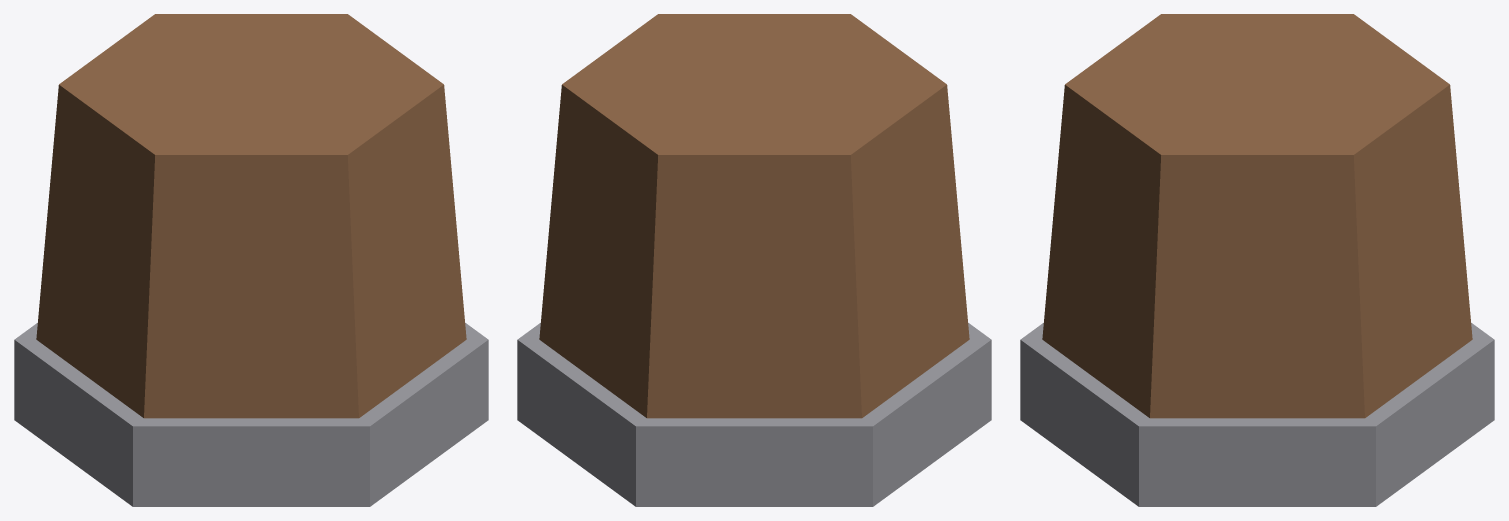
Rendered from prop-flail-cap-ring.fbx.
The picture shows the model from 3 angles, left to right: view 1: azimuth 30°, elevation 25°; view 2: azimuth 150°, elevation 25°; view 3: azimuth 270°, elevation 25°; orthographic projection.
Visible parts, largest first — view 1: prop-flail-cap-ring; view 2: prop-flail-cap-ring; view 3: prop-flail-cap-ring.
Part boxes in pixels (x1=…): prop-flail-cap-ring: x1=14, y1=14, x2=488, y2=506; prop-flail-cap-ring: x1=517, y1=14, x2=991, y2=506; prop-flail-cap-ring: x1=1020, y1=14, x2=1494, y2=506.
Bounding box in the file's own units: 5.54 × 5 × 6.4.
